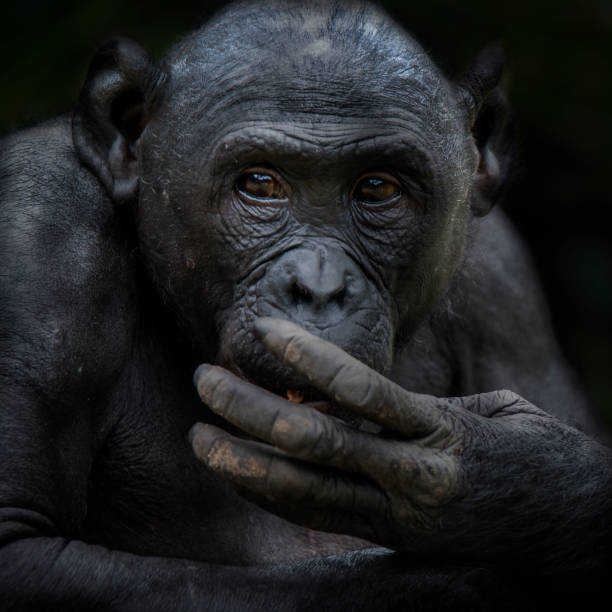chimpanzee: (46, 7, 612, 469)
